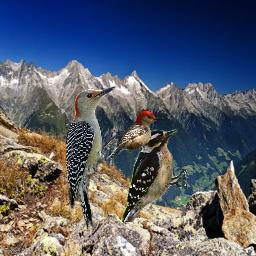Woodpecker: (66, 83, 120, 236), (122, 129, 189, 222), (105, 109, 165, 161)
